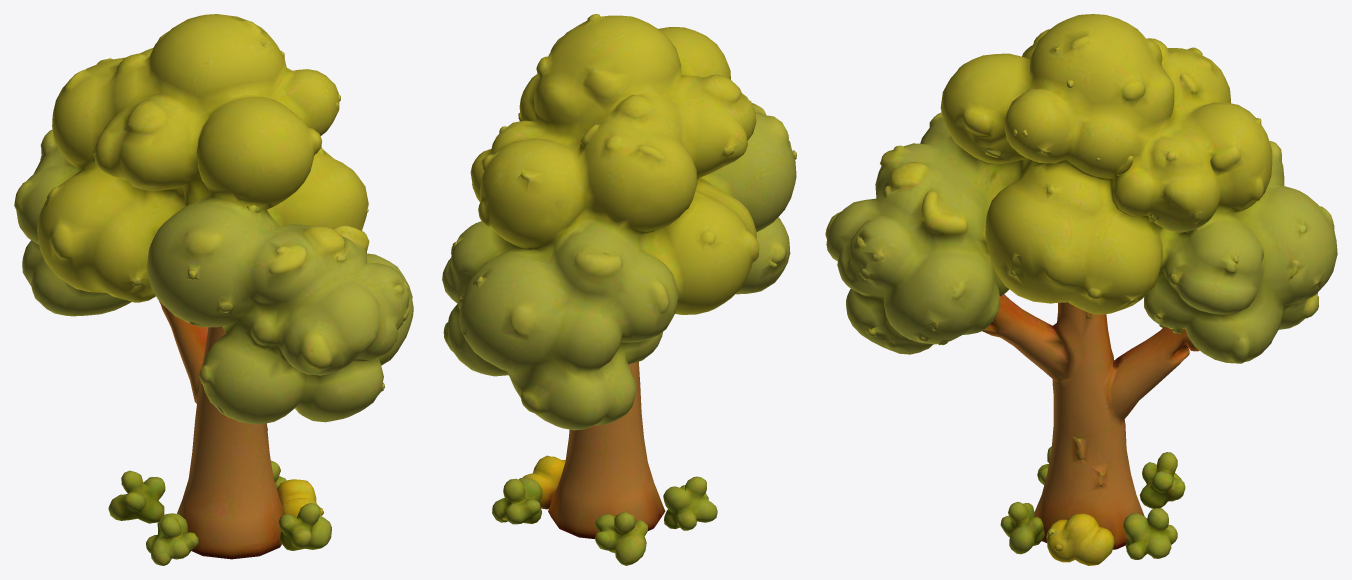
Rendered from tree.glb.
The picture shows the model from 3 angles, left to right: view 1: azimuth 30°, elevation 25°; view 2: azimuth 150°, elevation 25°; view 3: azimuth 270°, elevation 25°; orthographic projection. The views are drawn at different scales.
Parts seen in each view (by area): view 1: tripo_node_75c0cea1-dfd3-4869-a686-3902f0f866c3; view 2: tripo_node_75c0cea1-dfd3-4869-a686-3902f0f866c3; view 3: tripo_node_75c0cea1-dfd3-4869-a686-3902f0f866c3.
Boxes of the visible parts, bbox=[...] form: tripo_node_75c0cea1-dfd3-4869-a686-3902f0f866c3: bbox=[14, 14, 413, 565]; tripo_node_75c0cea1-dfd3-4869-a686-3902f0f866c3: bbox=[442, 14, 796, 565]; tripo_node_75c0cea1-dfd3-4869-a686-3902f0f866c3: bbox=[825, 14, 1337, 565].
Size of the model in its own units: 0.5723 by 0.998 by 0.9199.
Materials: 1 (1 with a texture image).
